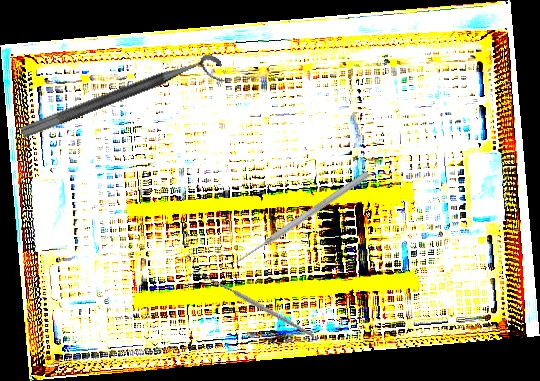Fixation Ring: (19, 50, 228, 156)
Hook Surgical: (189, 235, 315, 376)
Pusher: (232, 169, 372, 267)
